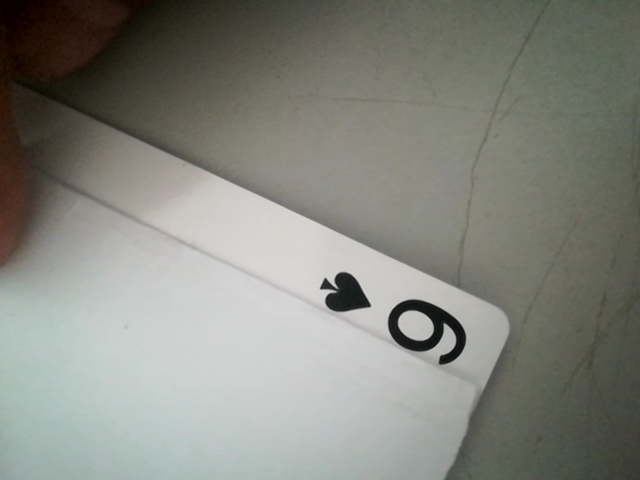ht 6: (306, 267, 484, 372)
